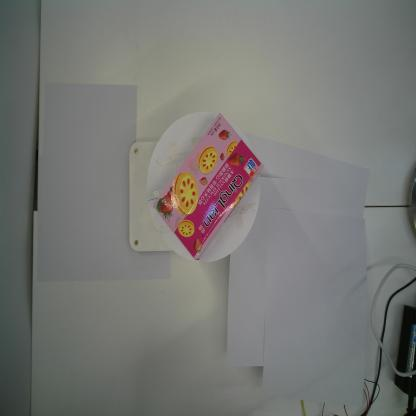Dessert: (151, 111, 265, 261)
